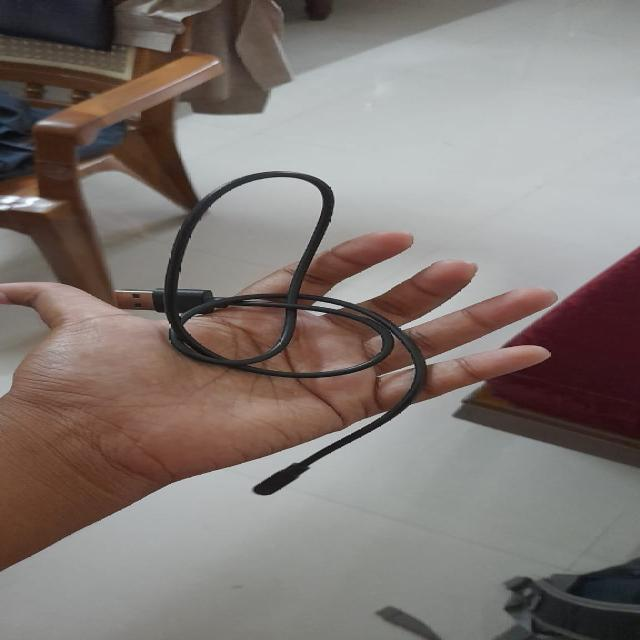Charger - Recyclable: (127, 169, 432, 495)
